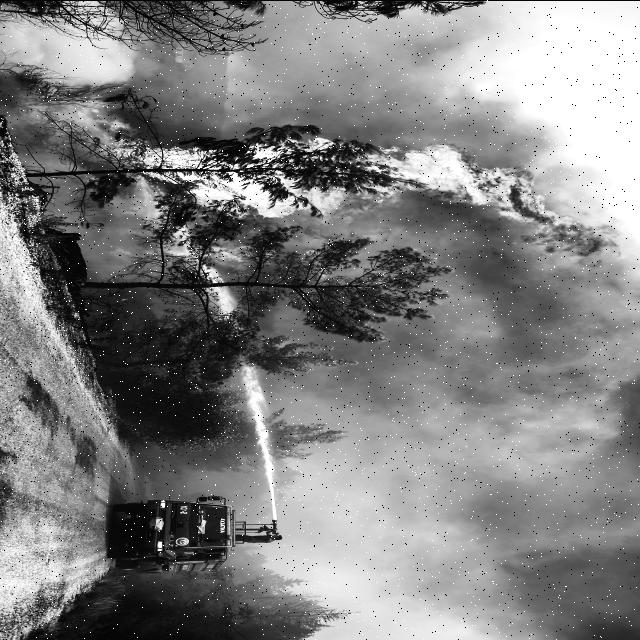api: (113, 133, 345, 215), (352, 142, 516, 214), (176, 232, 260, 279), (533, 208, 601, 250), (298, 217, 360, 235), (513, 171, 544, 205), (95, 115, 137, 129)
asap: (409, 259, 640, 640), (266, 1, 603, 126), (287, 329, 410, 583), (138, 28, 268, 126), (1, 3, 133, 86), (50, 204, 153, 272), (544, 128, 633, 201), (375, 216, 520, 256), (5, 100, 94, 159), (312, 585, 406, 636)
